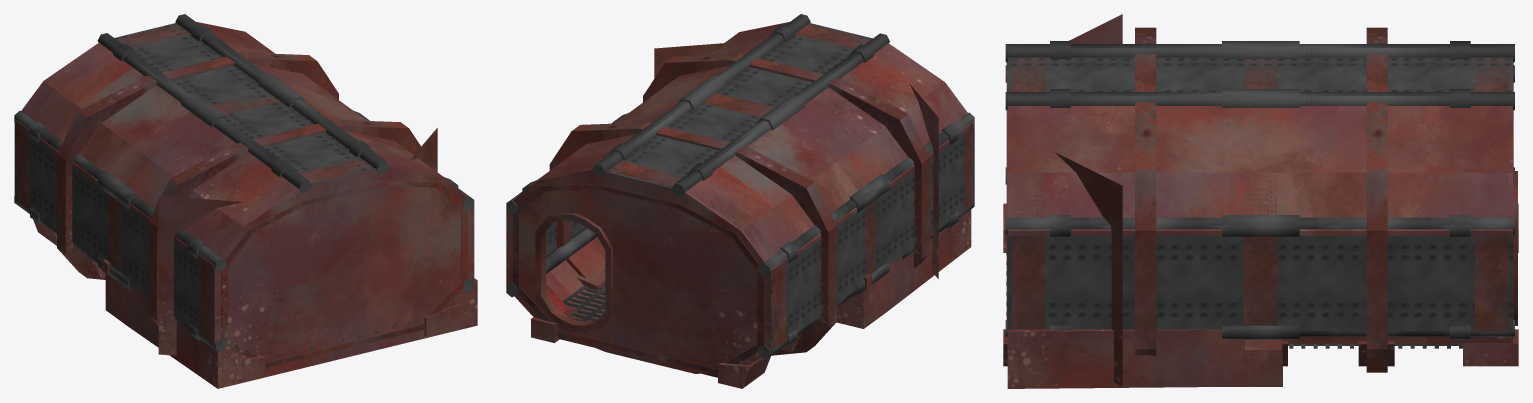
The model's file is Control_Room_No_Console.obj.
The picture shows the model from 3 angles, left to right: view 1: azimuth 30°, elevation 25°; view 2: azimuth 150°, elevation 25°; view 3: azimuth 270°, elevation 25°; orthographic projection. The views are drawn at different scales.
Parts seen in each view (by area): view 1: Cube.005; view 2: Cube.005; view 3: Cube.005.
Boxes of the visible parts, x1,y1,x2,y2 form: Cube.005: [14, 14, 477, 388]; Cube.005: [506, 14, 974, 388]; Cube.005: [1003, 14, 1518, 388].
Bounding box in the file's own units: 6.44 × 4.43 × 8.17.
4 materials, 4 textured.
